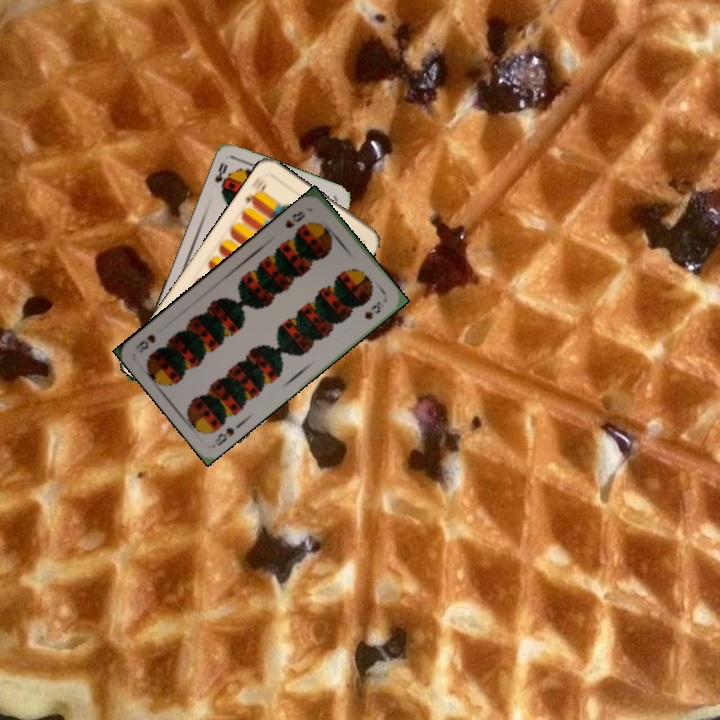E10: (241, 176, 270, 209)
S8: (210, 423, 237, 449), (281, 207, 308, 231)
SO: (211, 158, 230, 191)
